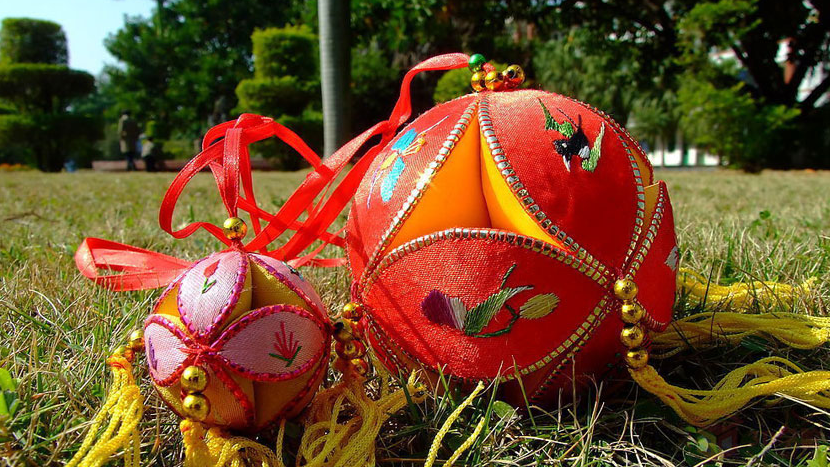xiuqiu: (328, 81, 695, 407), (131, 251, 333, 441)
